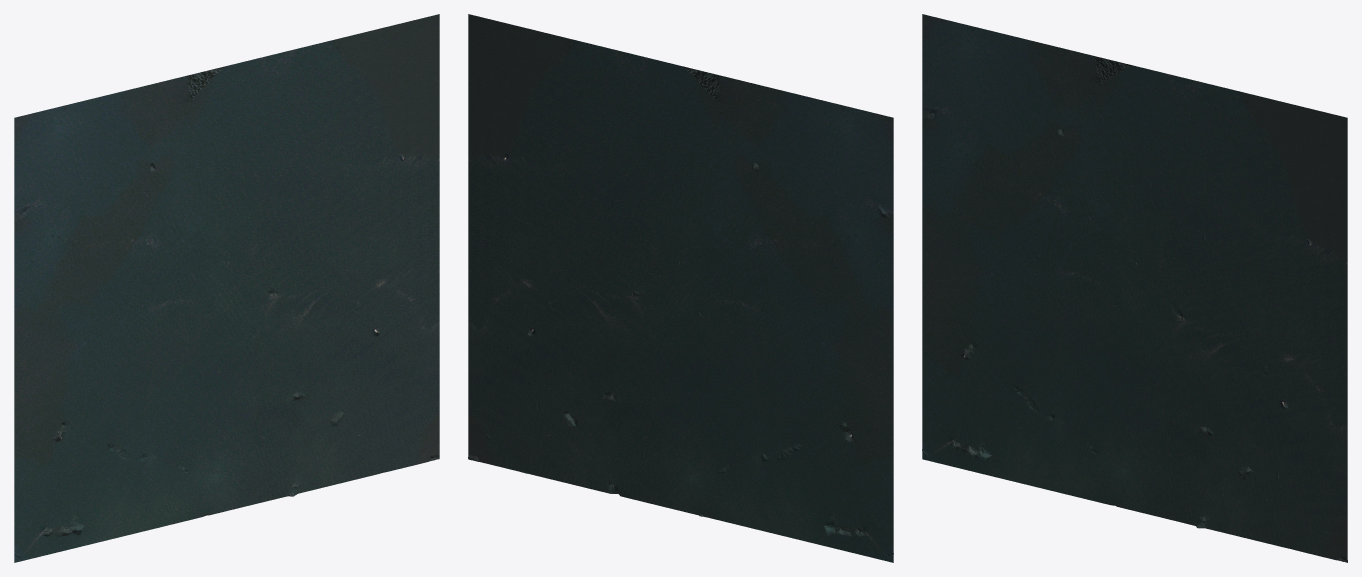
The model's file is Tile_+1997_+2687.obj.
3 views of the same model, side by side, from view 1: azimuth 30°, elevation 25°; view 2: azimuth 150°, elevation 25°; view 3: azimuth 330°, elevation 25° (orthographic).
Size of the model in its own units: 252 by 252 by 4.53.
Materials: 1 (1 with a texture image).
